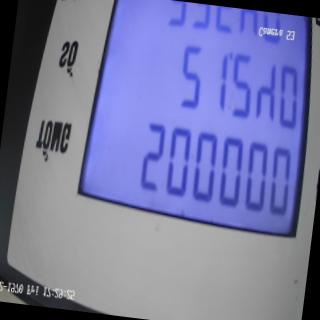screen: (70, 0, 320, 247)
